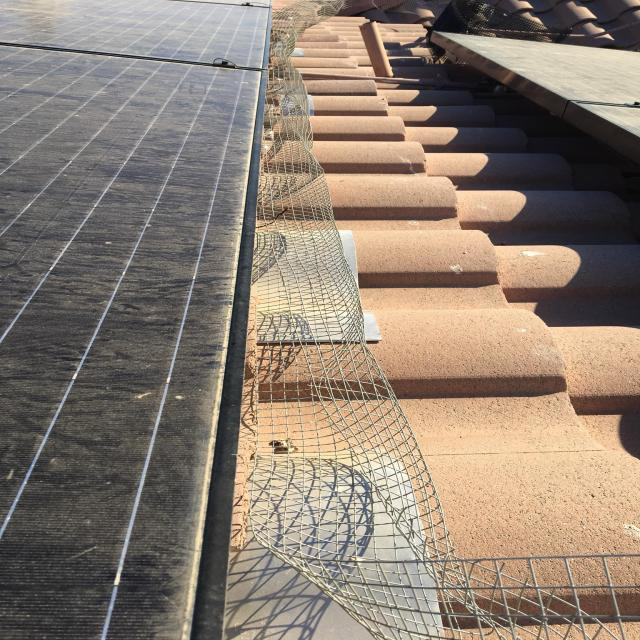dust-solar-panel: (0, 0, 272, 640), (425, 30, 640, 143)
